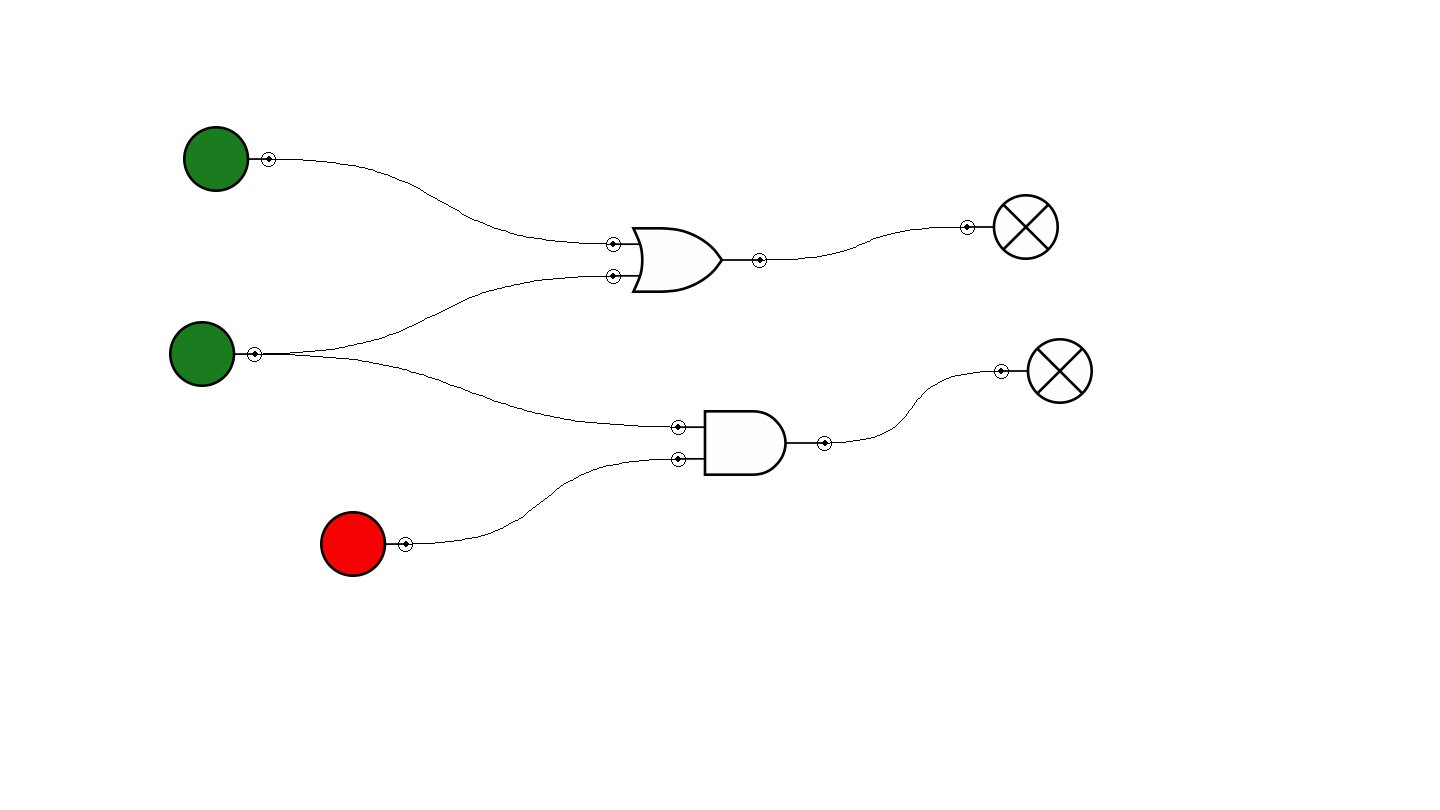and: (671, 410, 832, 476)
bulb: (960, 194, 1059, 260), (994, 338, 1093, 404)
or: (606, 227, 767, 293)
switch_False: (320, 511, 413, 577)
switch_True: (169, 321, 262, 387), (183, 126, 276, 192)
